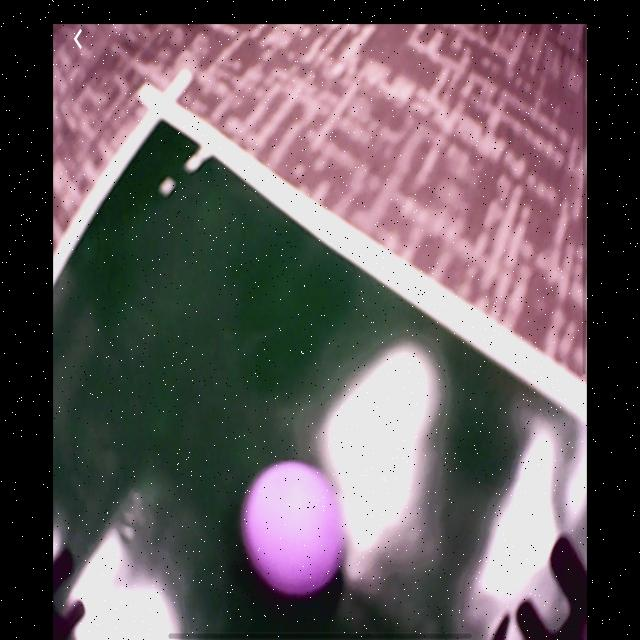ball: (241, 460, 350, 604)
